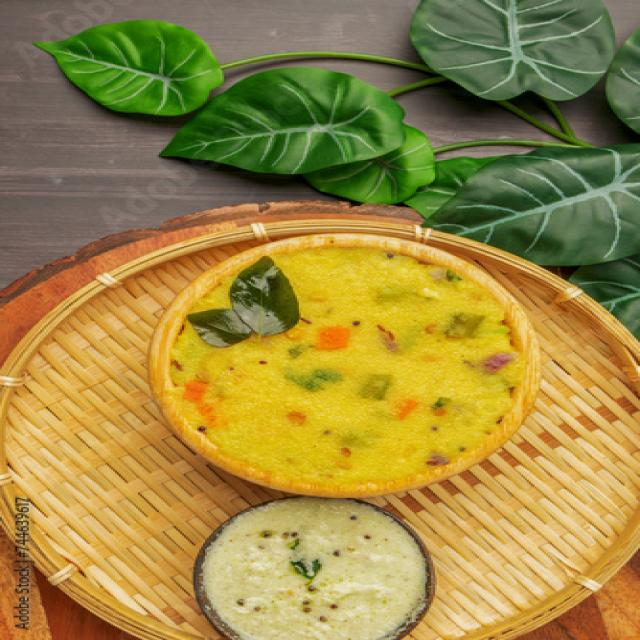UPMA: (151, 236, 537, 495)
